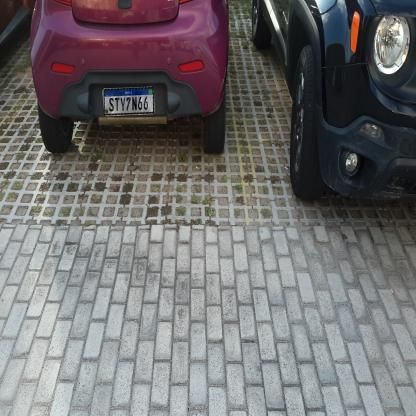PlacaM: (104, 87, 154, 115)
